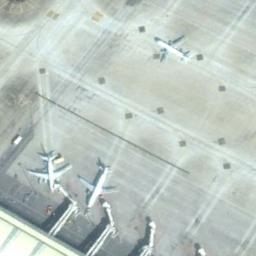Airplane: (24, 145, 72, 192), (76, 156, 117, 208), (153, 34, 192, 63)
